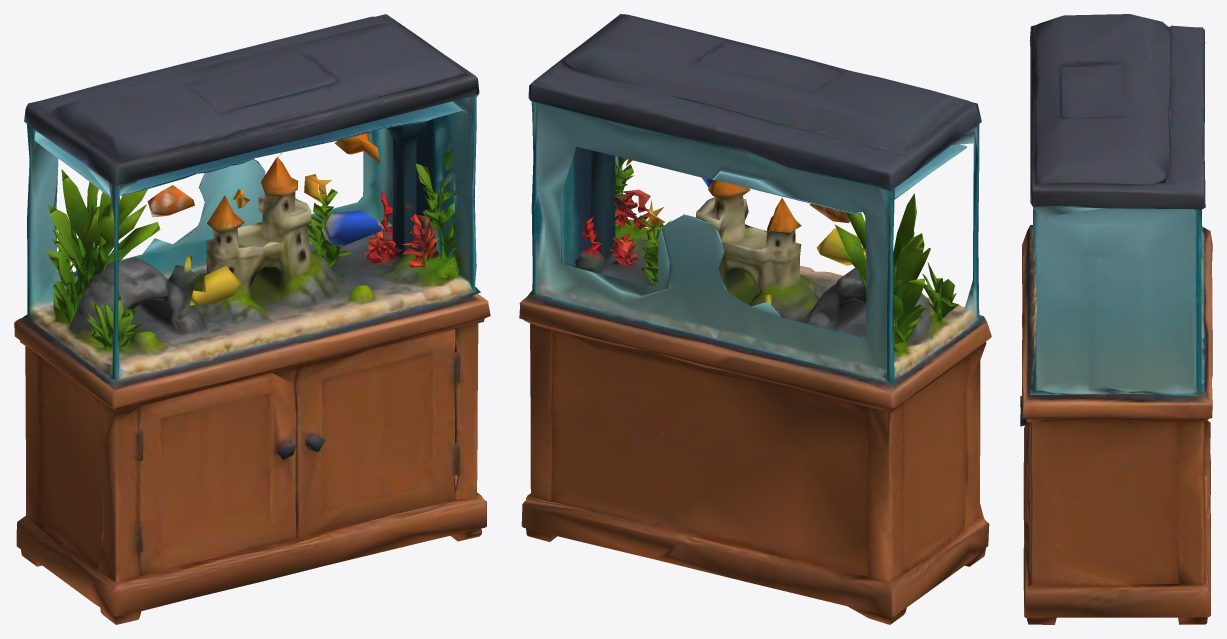
Rendered from aquarium.glb.
3 renders of one model, left to right at view 1: azimuth 30°, elevation 25°; view 2: azimuth 150°, elevation 25°; view 3: azimuth 270°, elevation 25°, orthographic. The views are drawn at different scales.
Visible parts, largest first — view 1: aquarium-node; view 2: aquarium-node; view 3: aquarium-node.
Part boxes in pixels (x1,y1,x2,y2): aquarium-node: (14,14,490,624); aquarium-node: (519,14,991,624); aquarium-node: (1020,14,1212,624).
Size of the model in its own units: 0.83 by 1 by 0.3858.
1 material, 1 textured.
